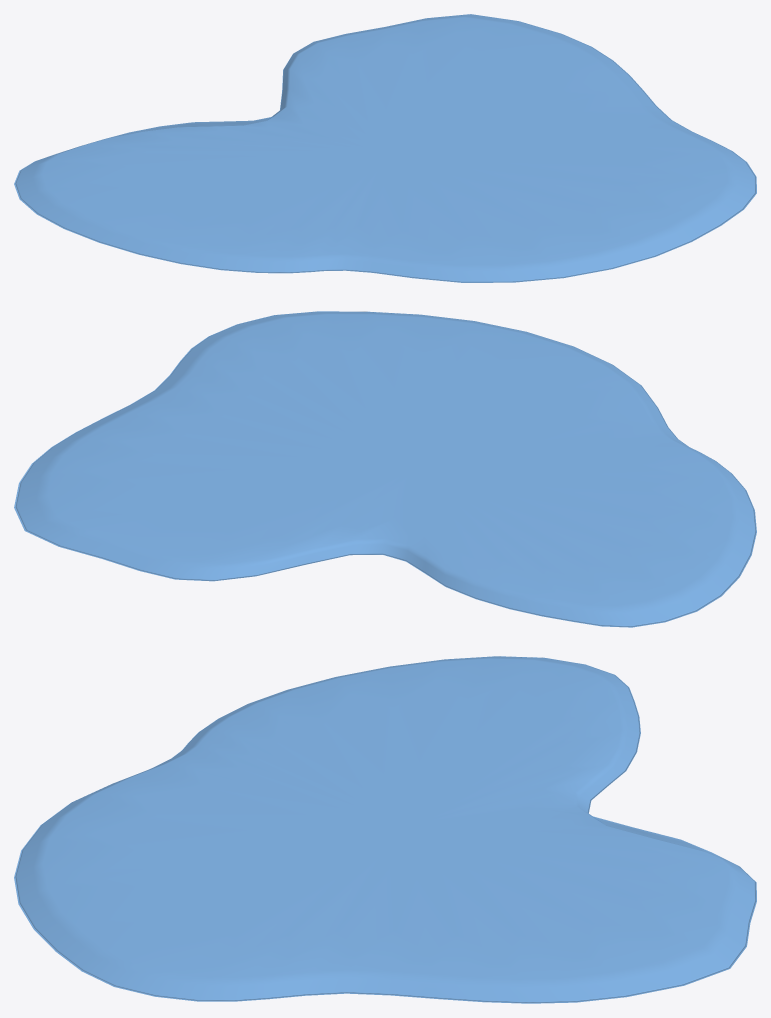
The model's file is LakeClear_round.fbx.
3 renders of one model, top to bottom at view 1: azimuth 30°, elevation 25°; view 2: azimuth 150°, elevation 25°; view 3: azimuth 270°, elevation 25°, orthographic. The views are drawn at different scales.
Parts seen in each view (by area): view 1: LakeClear; view 2: LakeClear; view 3: LakeClear.
Part boxes in pixels (x1,y1,x2,y2): LakeClear: (14,14,756,282); LakeClear: (14,311,756,627); LakeClear: (14,656,756,1003).
Size of the model in its own units: 25.28 by 0.524 by 22.84.
